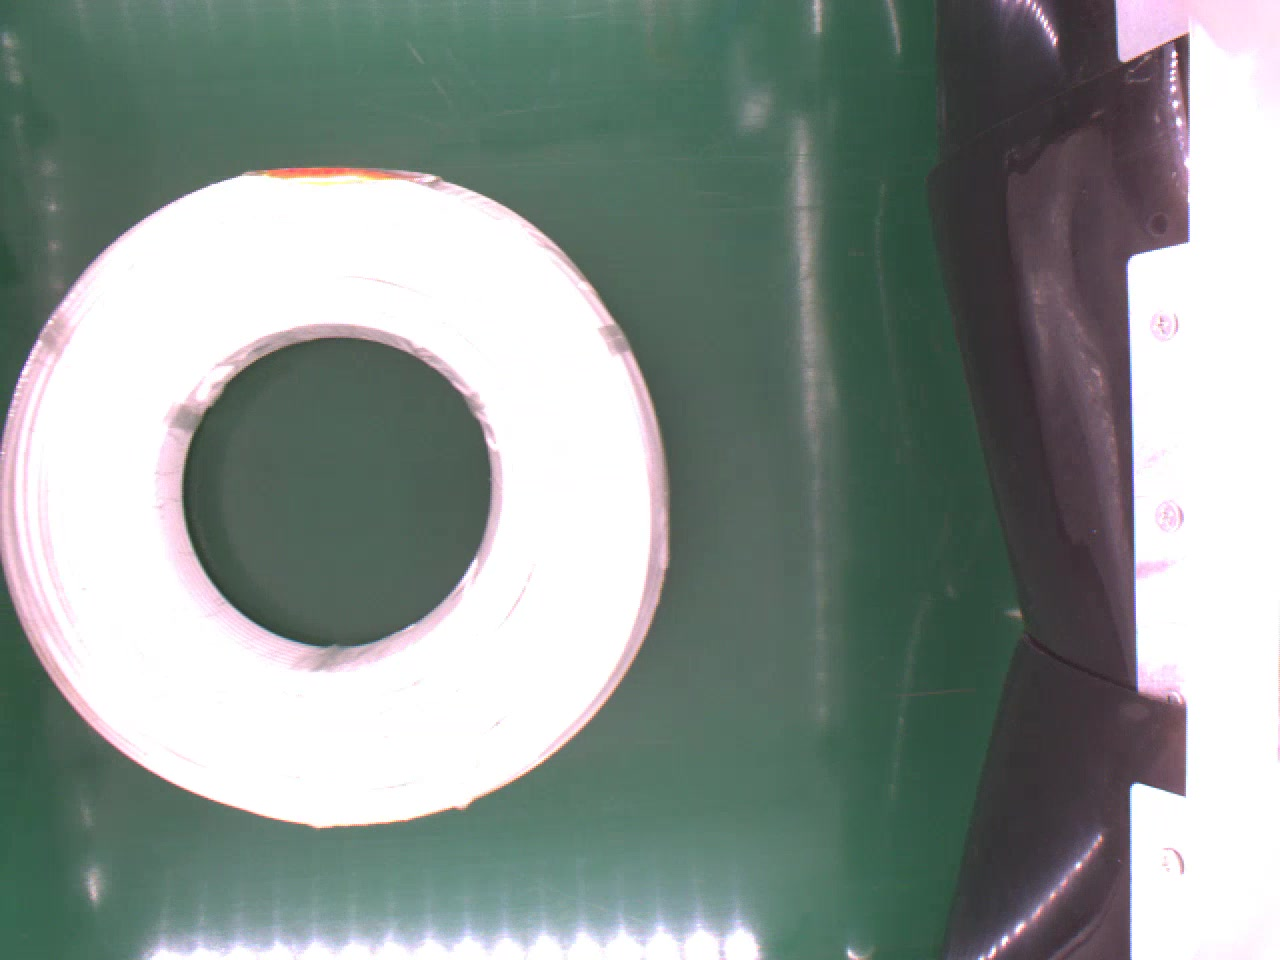white: (0, 160, 675, 832)
